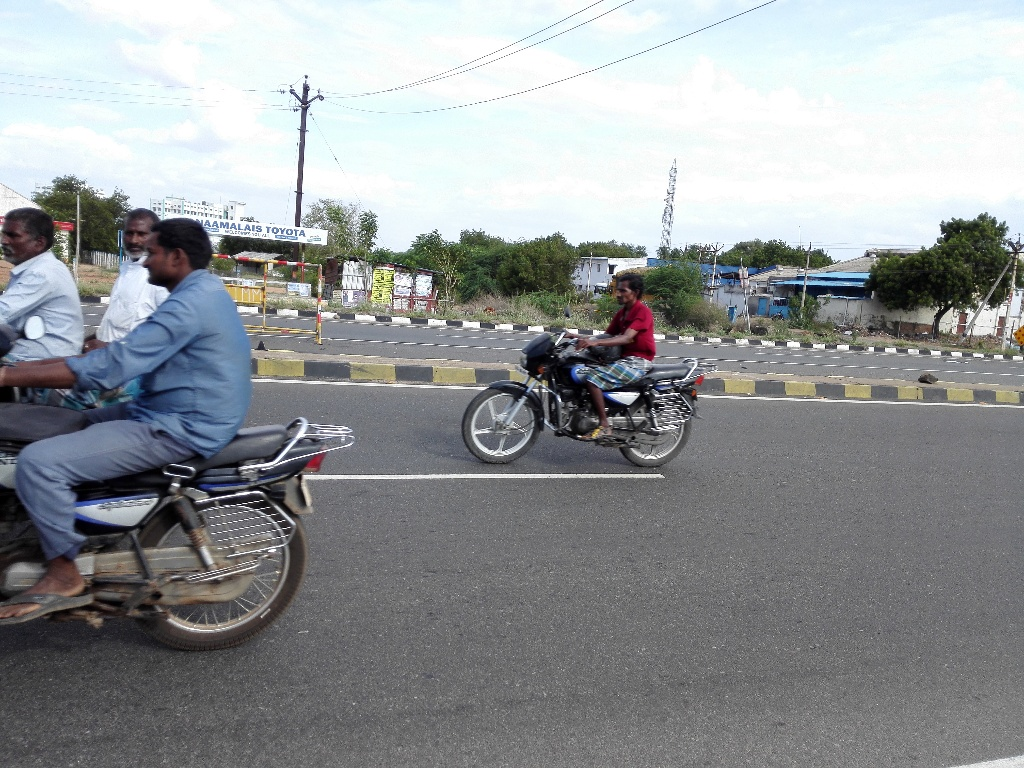biker: (1, 165, 368, 657), (446, 231, 730, 479)
nohelmet: (137, 211, 223, 297), (1, 196, 57, 273), (611, 262, 656, 325), (118, 205, 157, 263)
